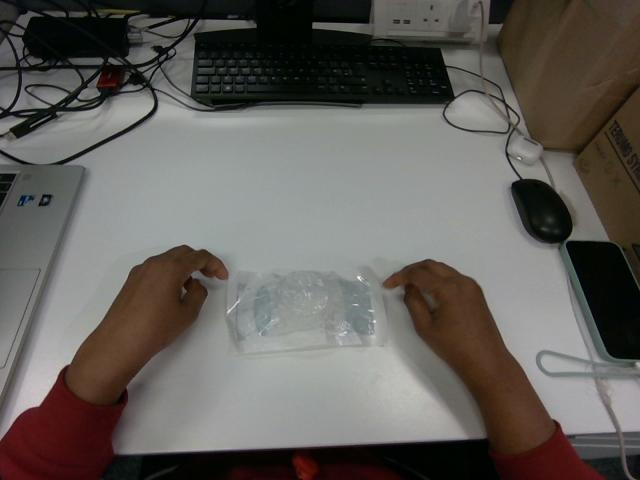gallipot: (227, 267, 387, 352)
